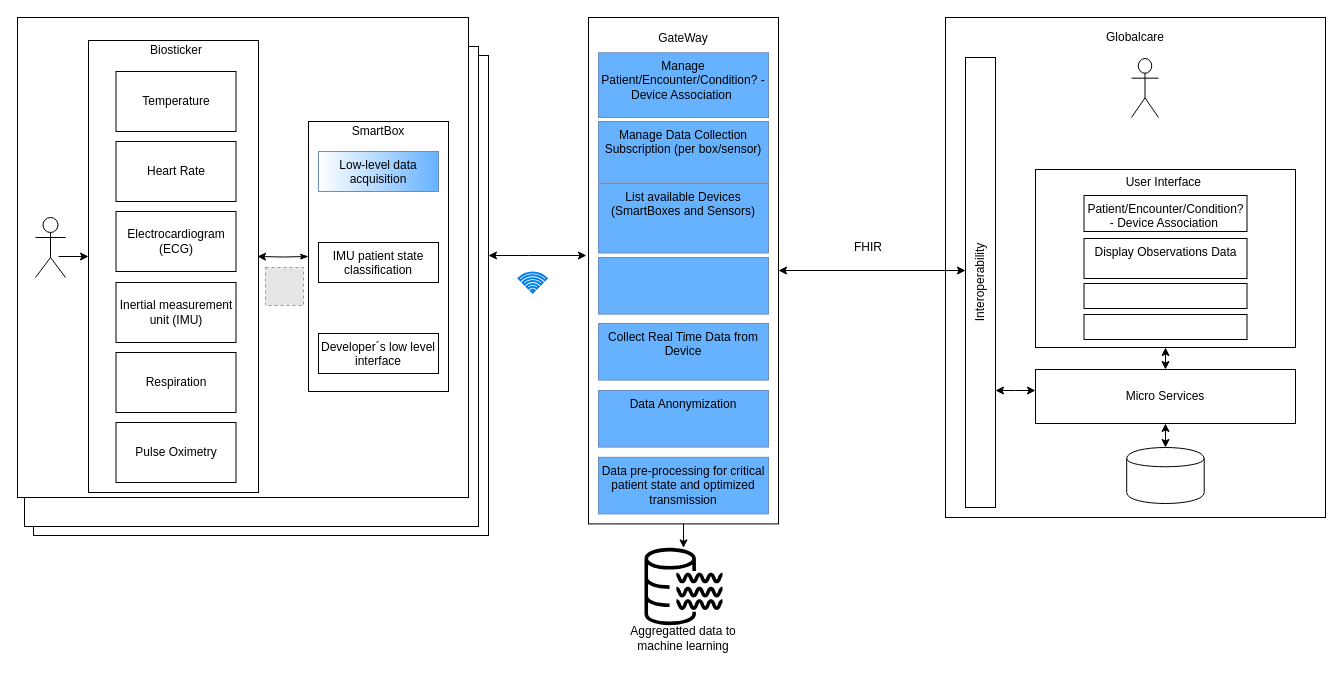
This 1343x687 diagram has some shape labels left out. Grey dashed boxes stand in for pictures. Each missing label, with the centre of its shape:
Ask Real Time Data: (1165,295)
Data: (1165,475)
Health Professional: (1144,88)
Patient: (50,247)
Subscribe sensor data: (1165,327)
Transform sensor RAW data into FHIR: (683,285)
